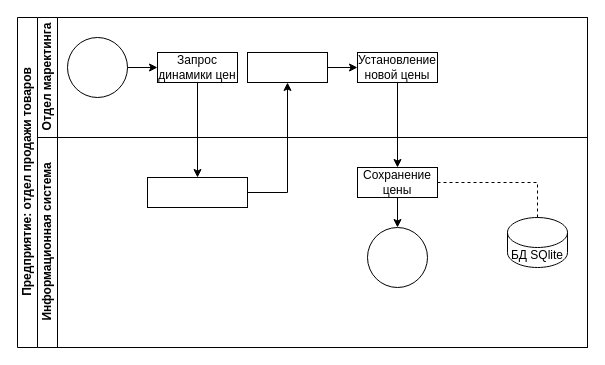
Image size: 605x365. Some labels were removed from this diagram. The centre of each missing label's shape, as x and y in pixels:
"Анализ спроса" belongs at point (287, 67).
"Изменение спроса" belongs at point (97, 67).
"Формирование отчета" belongs at point (197, 192).
"Цена обновлена" belongs at point (397, 257).
